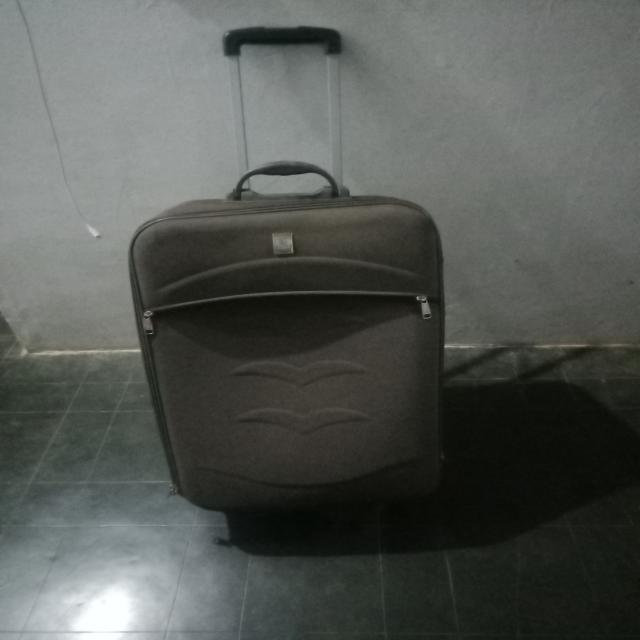suitcaserotation: (122, 22, 448, 514)
